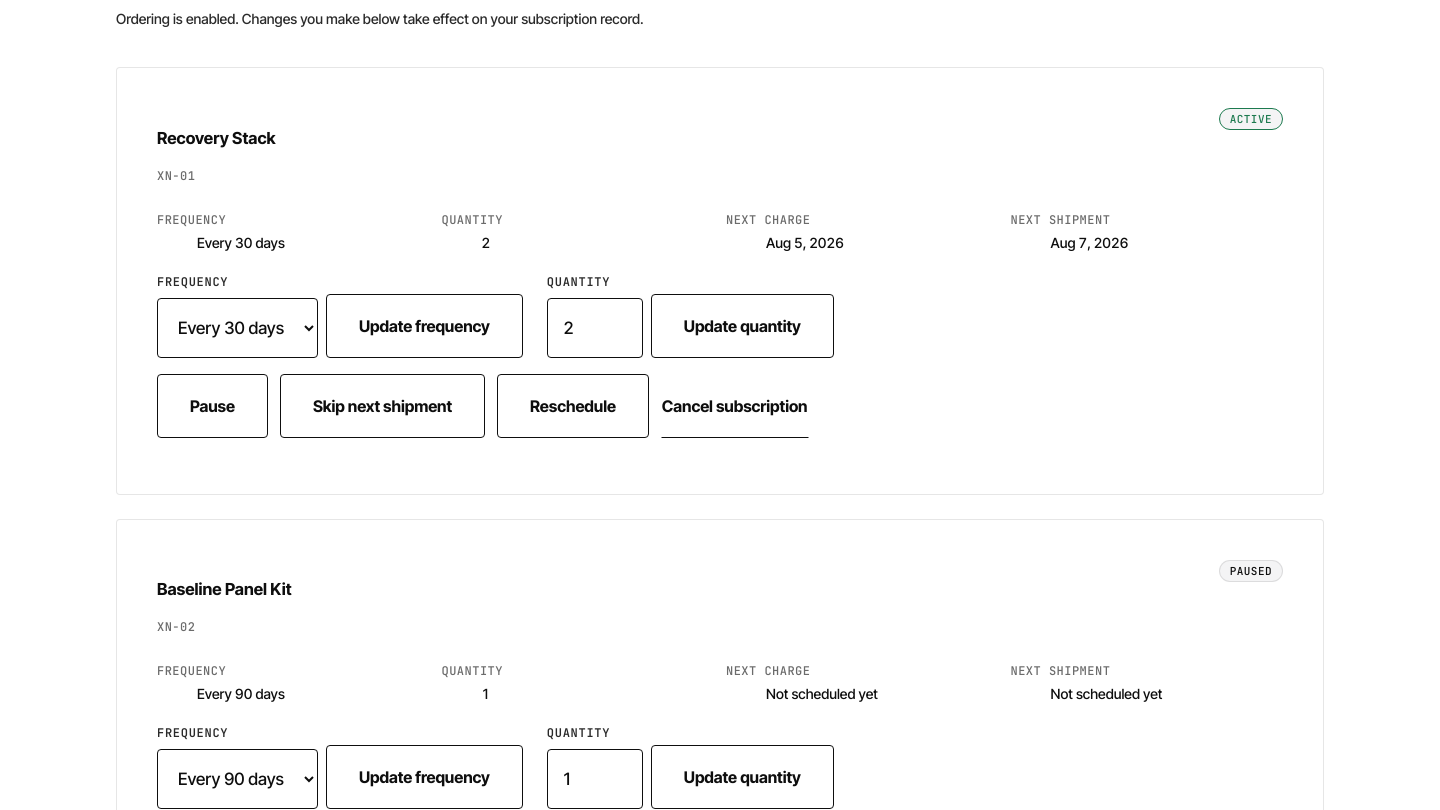
it: Subscriptions page › routes a denied action on its machine code to the canonical copy, with no error styling
(page scrolled)
Click the button "Pause" at (212, 406), box [157,374,268,438]
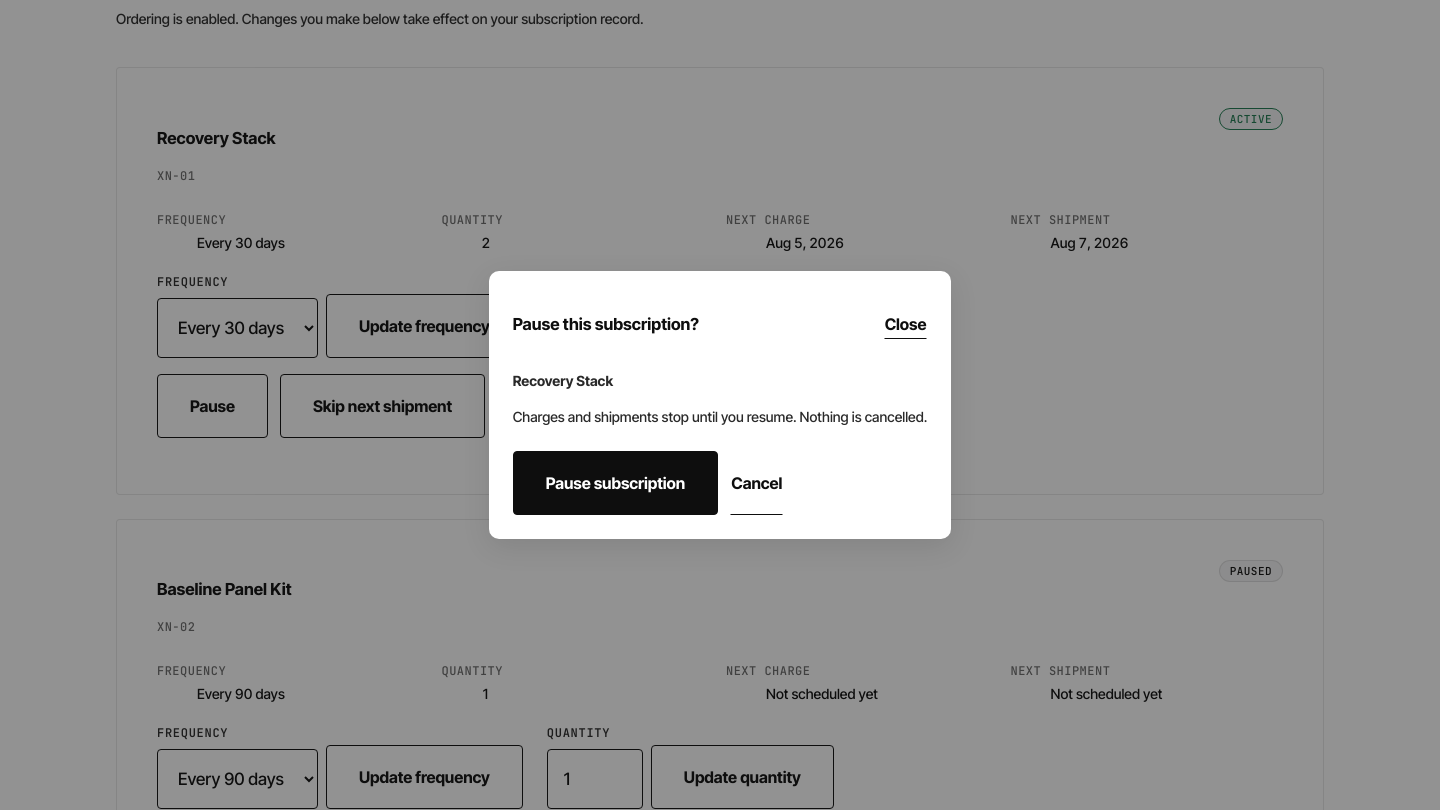
Click the button "Pause subscription" at (616, 484), box [513,452,718,516]
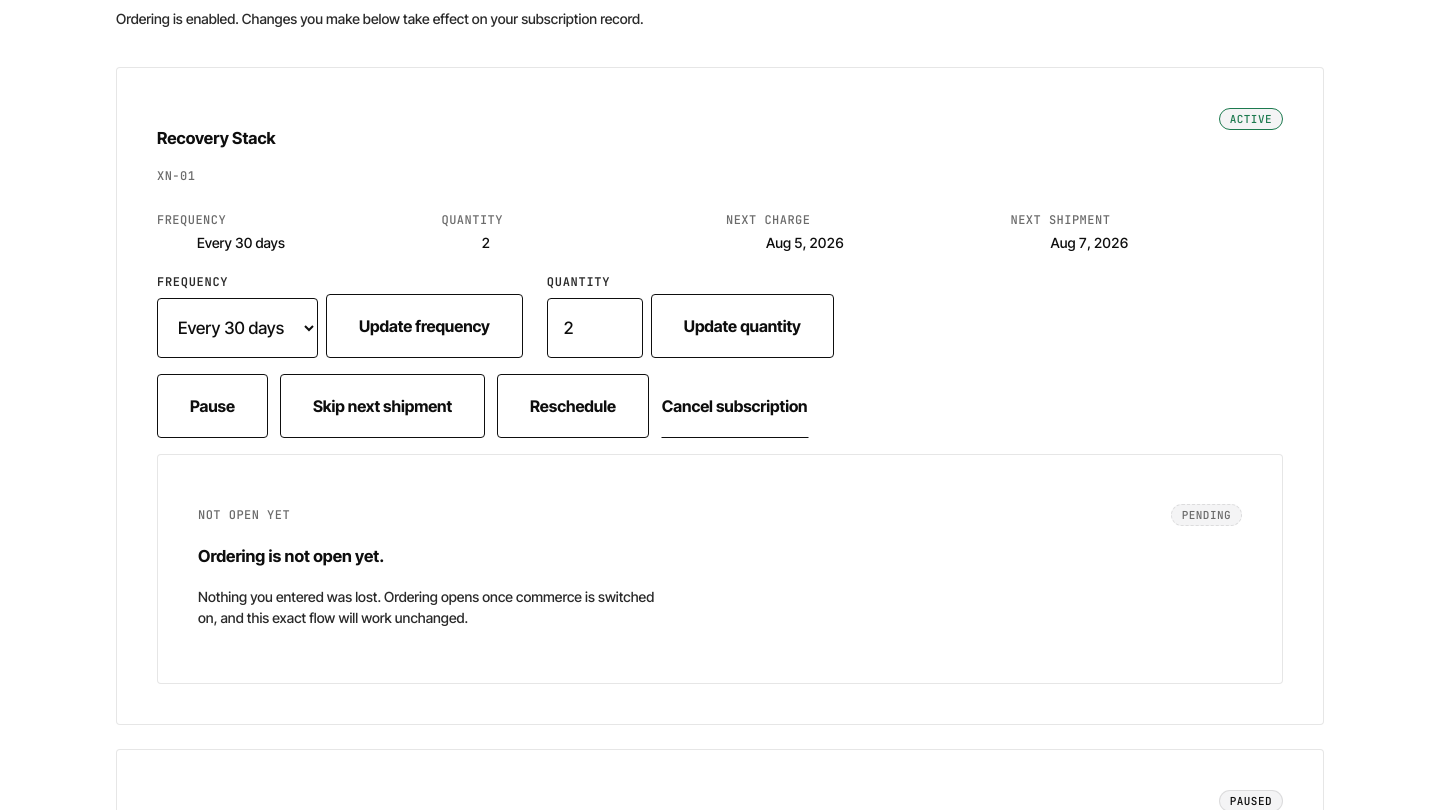
Now the text "Ordering is not open yet." is shown, box [198,546,384,566]
Now the text "Nothing you entered was lost. Ordering opens once commerce is switched on, and this exact flow will work unchanged." is shown, box [198,588,654,626]
